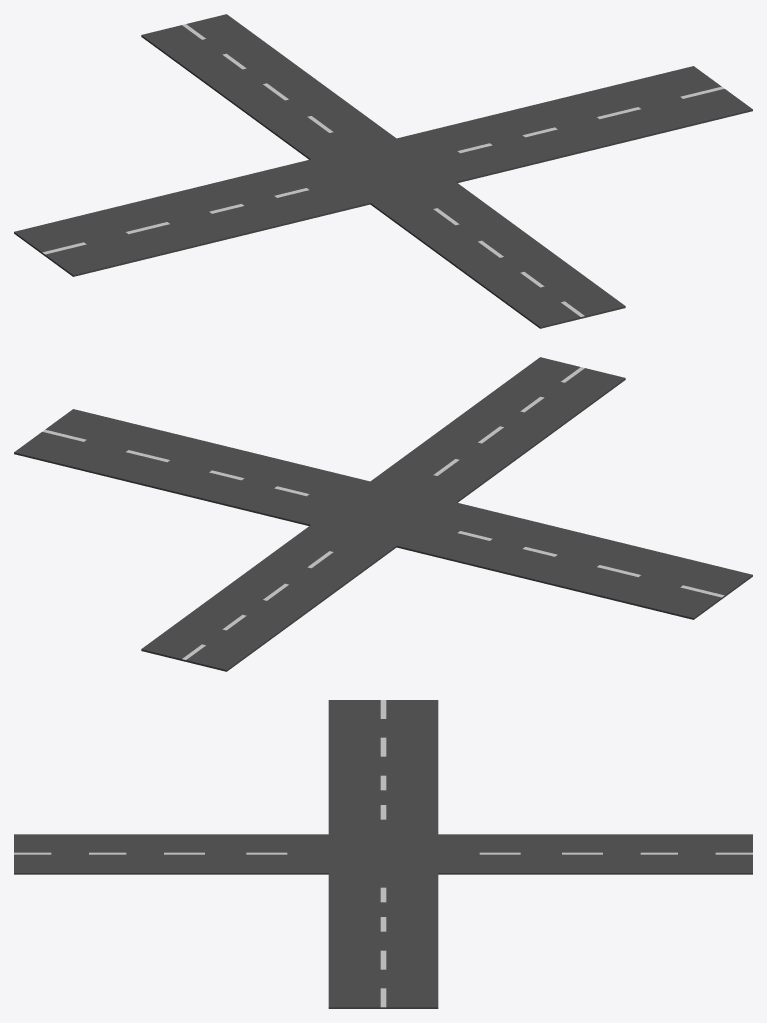
Rendered from Road.fbx.
3 views of the same model, one above another, from view 1: azimuth 30°, elevation 25°; view 2: azimuth 150°, elevation 25°; view 3: azimuth 270°, elevation 25° (orthographic). The views are drawn at different scales.
Visible parts, largest first — view 1: Cube.001; view 2: Cube.001; view 3: Cube.001.
Boxes of the visible parts, x1,y1,x2,y2 form: Cube.001: (14, 14, 752, 328); Cube.001: (14, 357, 752, 671); Cube.001: (14, 700, 752, 1008).
Bounding box in the file's own units: 7943 × 20 × 8077.
